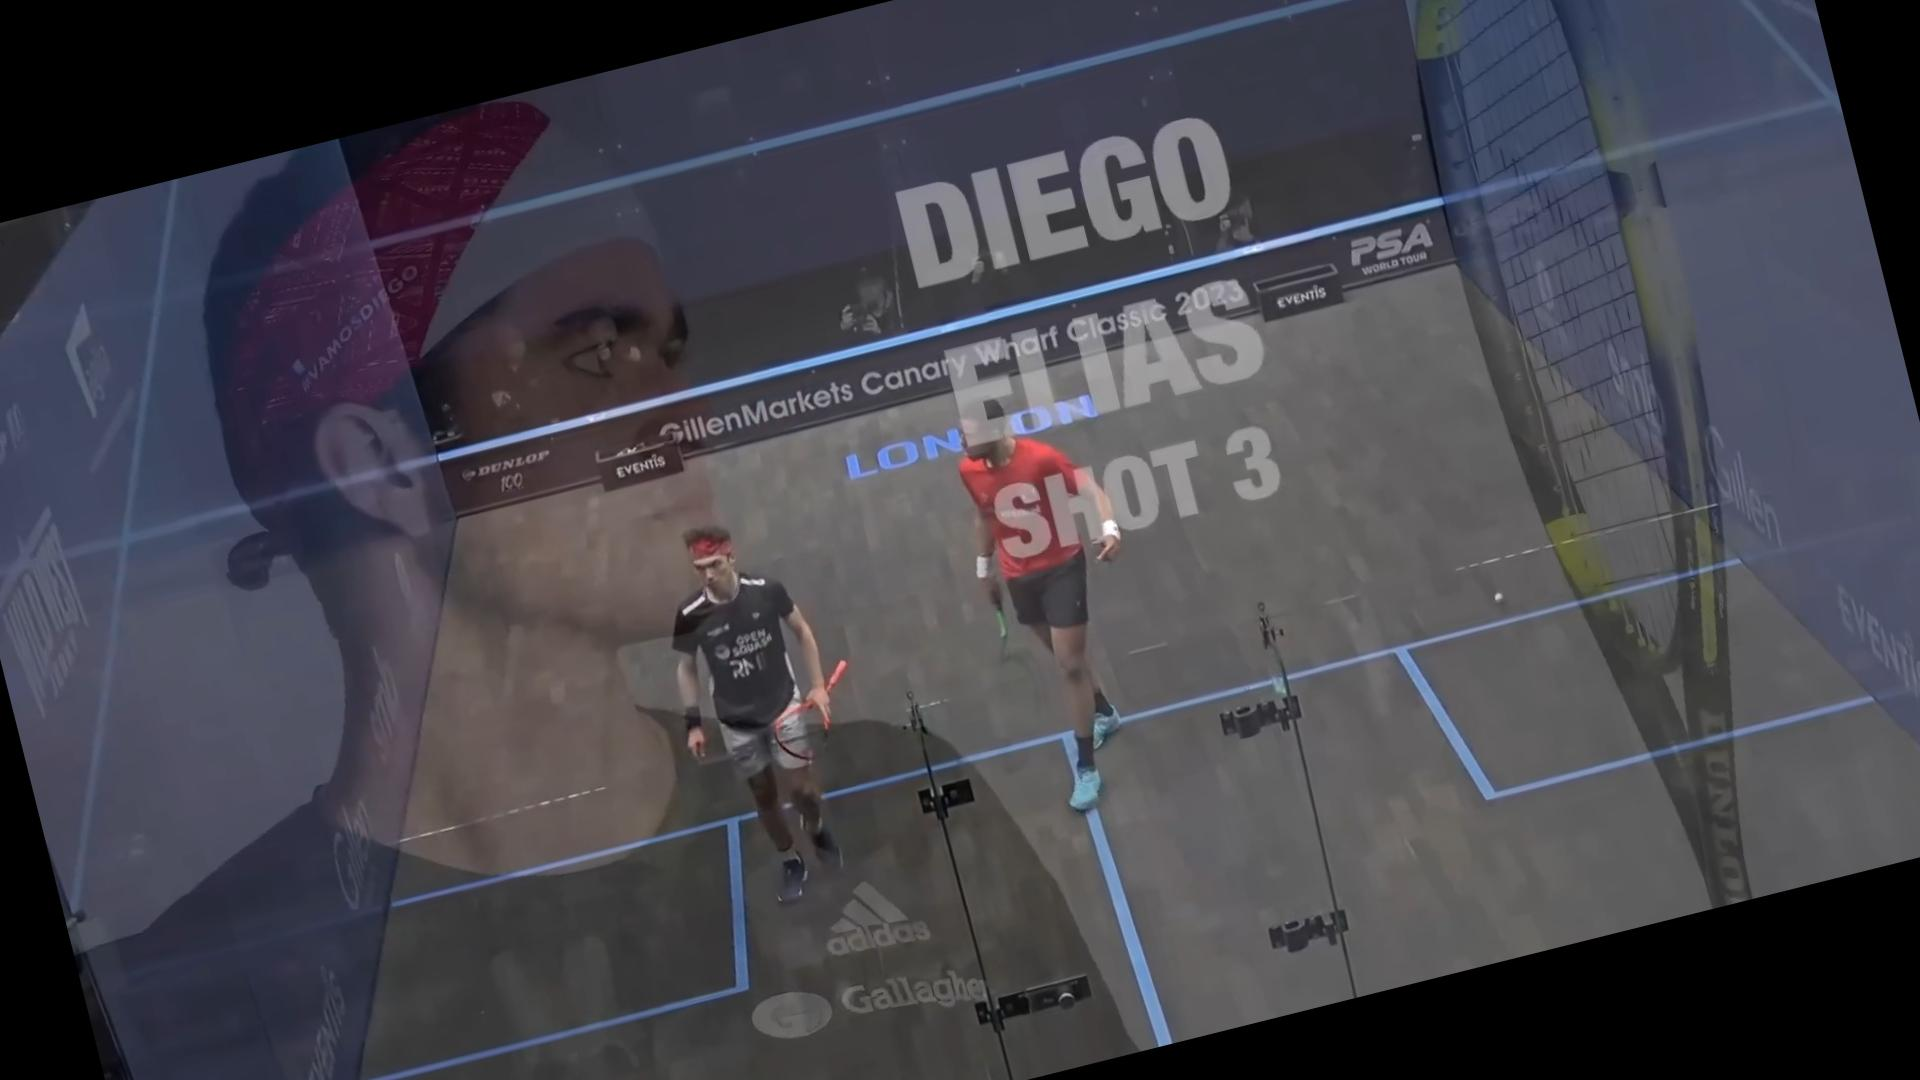Racket: (754, 647, 878, 774), (985, 584, 1048, 719)
